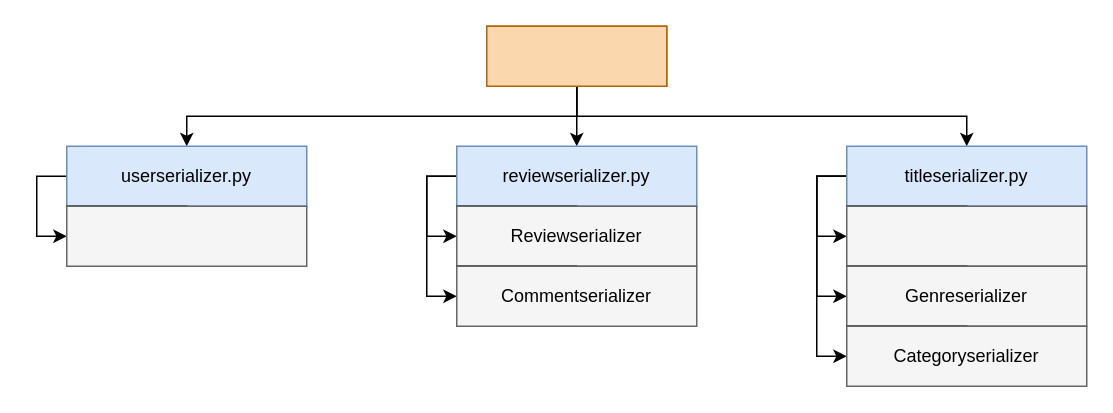
Some shapes in this 1113 by 413 pixel diagram are drawn without their labels. The centre of each missing label's shape, as x and y in pixels:
Serializers: the point at 576,55
Titleserializer: the point at 966,235
Userserializer: the point at 186,235
